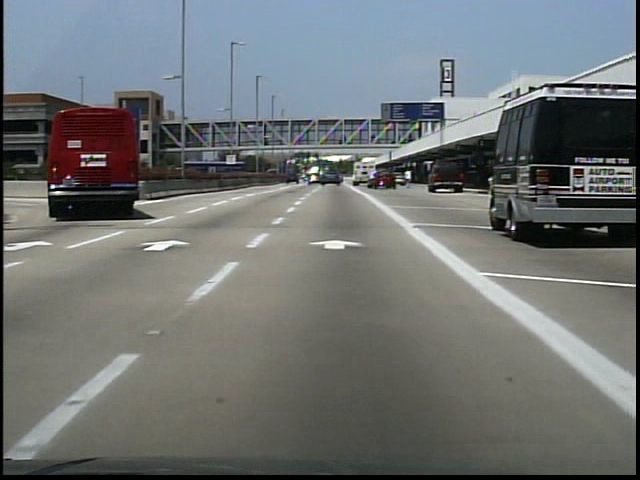person: (401, 169, 415, 191)
